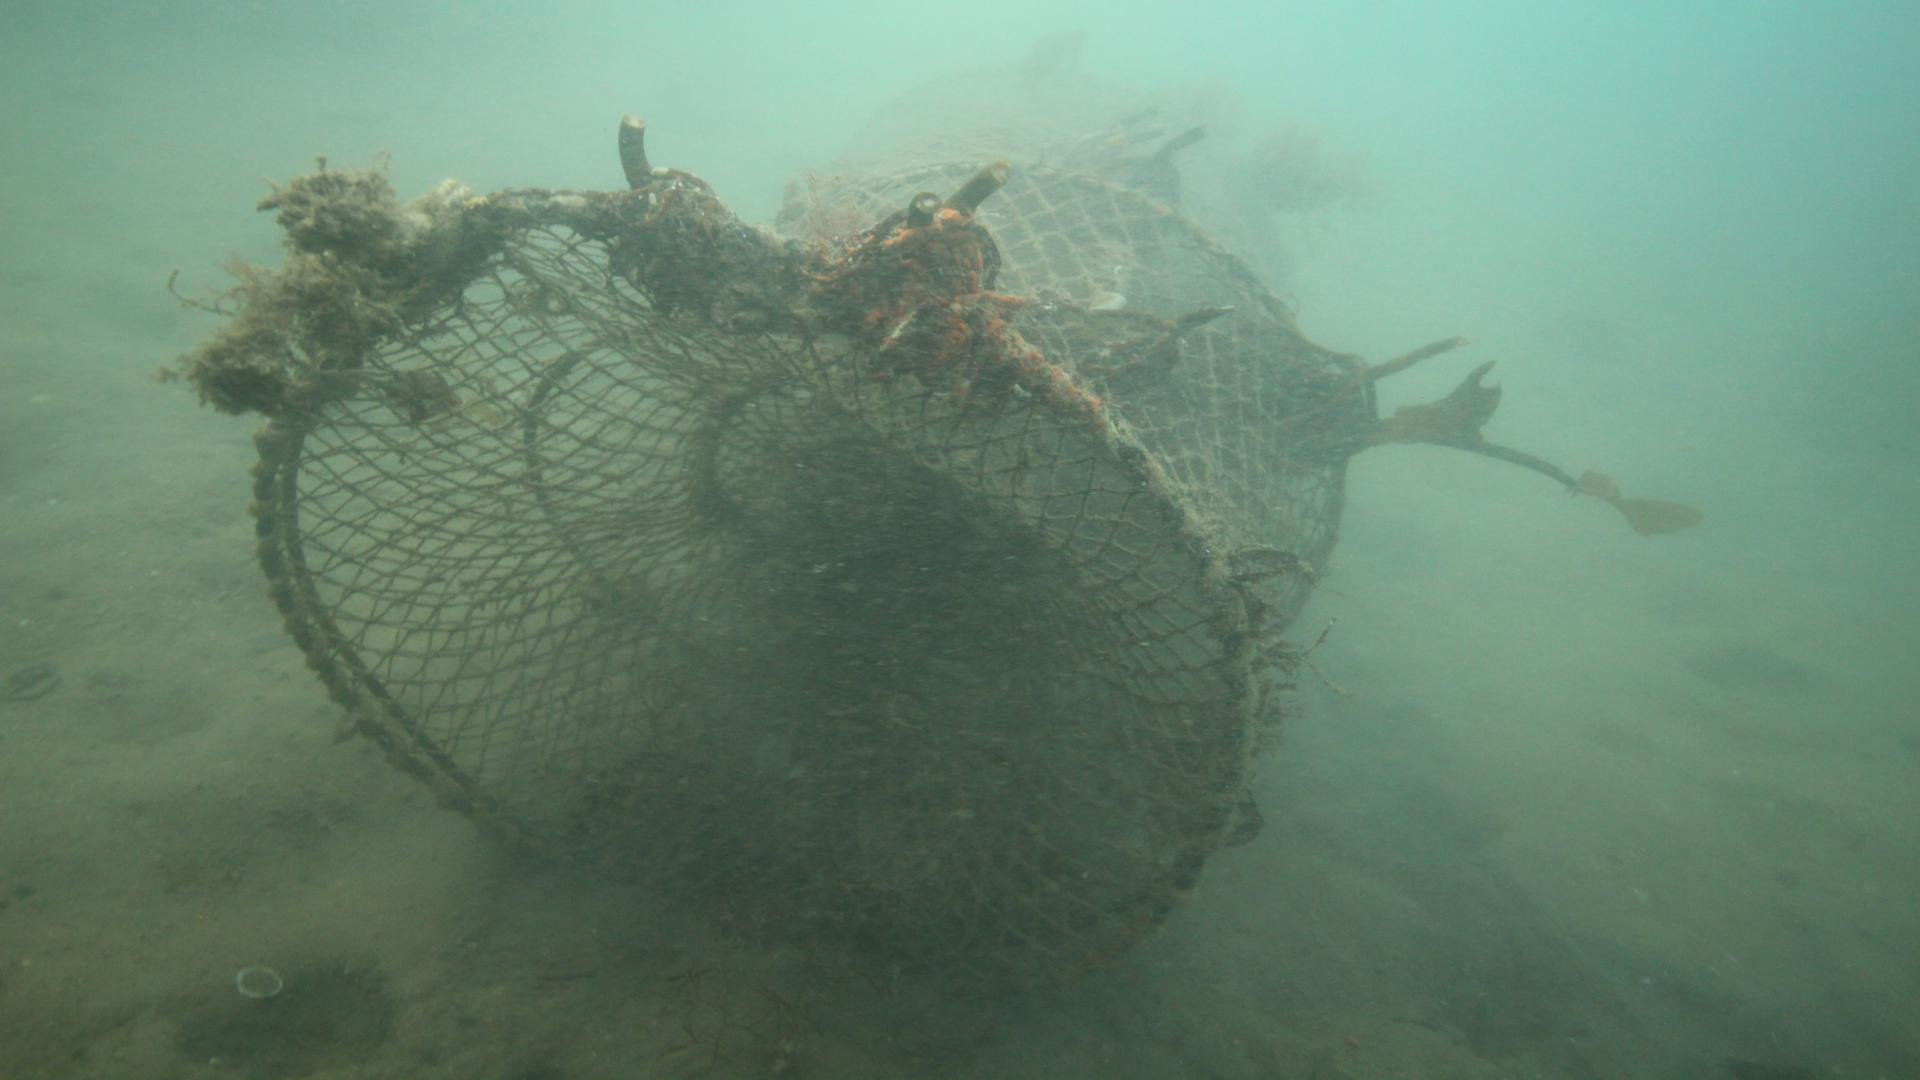spring fish trap: (248, 63, 1379, 996)
